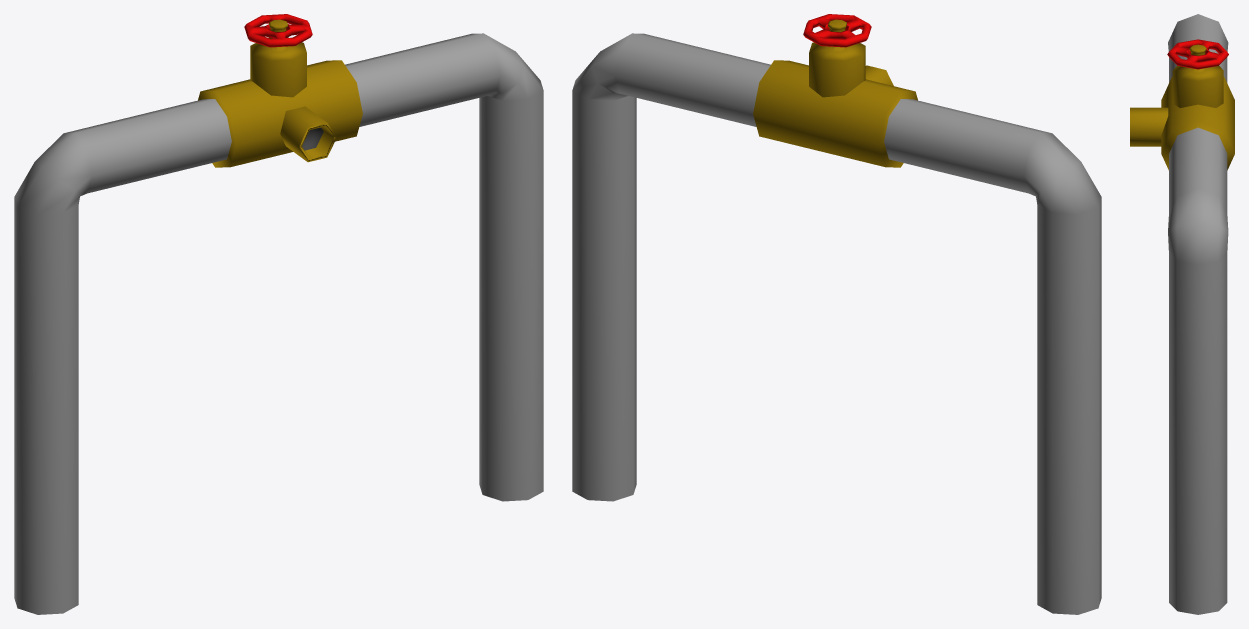
The model's file is WaterPipe.fbx.
The picture shows the model from 3 angles, left to right: view 1: azimuth 30°, elevation 25°; view 2: azimuth 150°, elevation 25°; view 3: azimuth 270°, elevation 25°; orthographic projection. The views are drawn at different scales.
Parts seen in each view (by area): view 1: Pipes, Valve; view 2: Pipes, Valve; view 3: Pipes, Valve.
Part boxes in pixels (box(x1,y1,x2,y2)): Pipes: box(14, 19, 543, 614); Valve: box(244, 14, 312, 47); Pipes: box(572, 19, 1101, 614); Valve: box(803, 14, 871, 47); Pipes: box(1130, 14, 1234, 614); Valve: box(1167, 39, 1228, 69).
Bounding box in the file's own units: 18.05 × 17.21 × 3.59.
